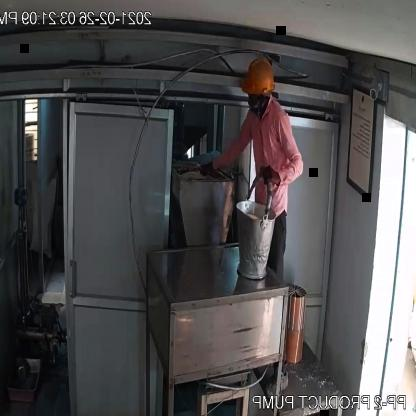helmet: (235, 50, 280, 104)
